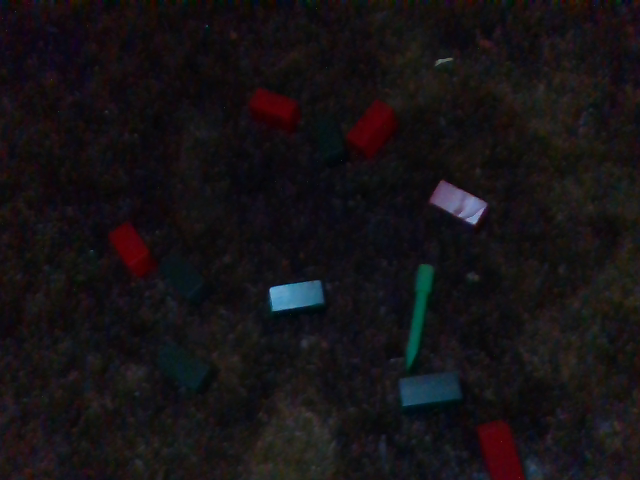Probe: (399, 258, 435, 368)
